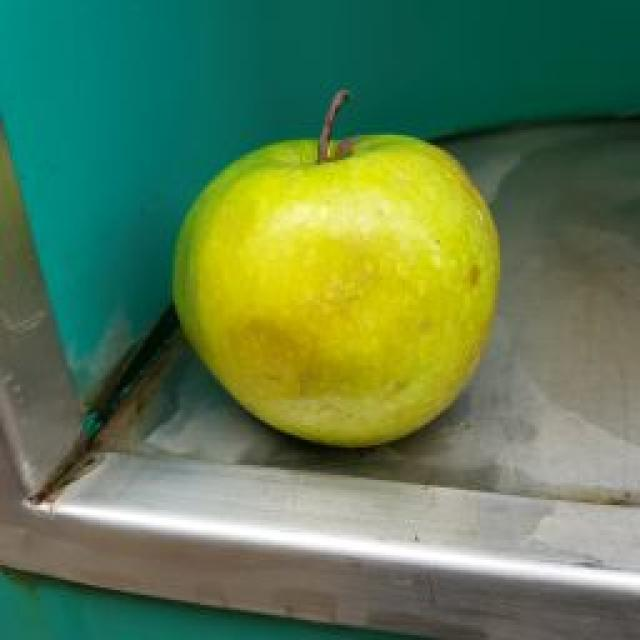Good_Apple: (175, 136, 498, 446)
